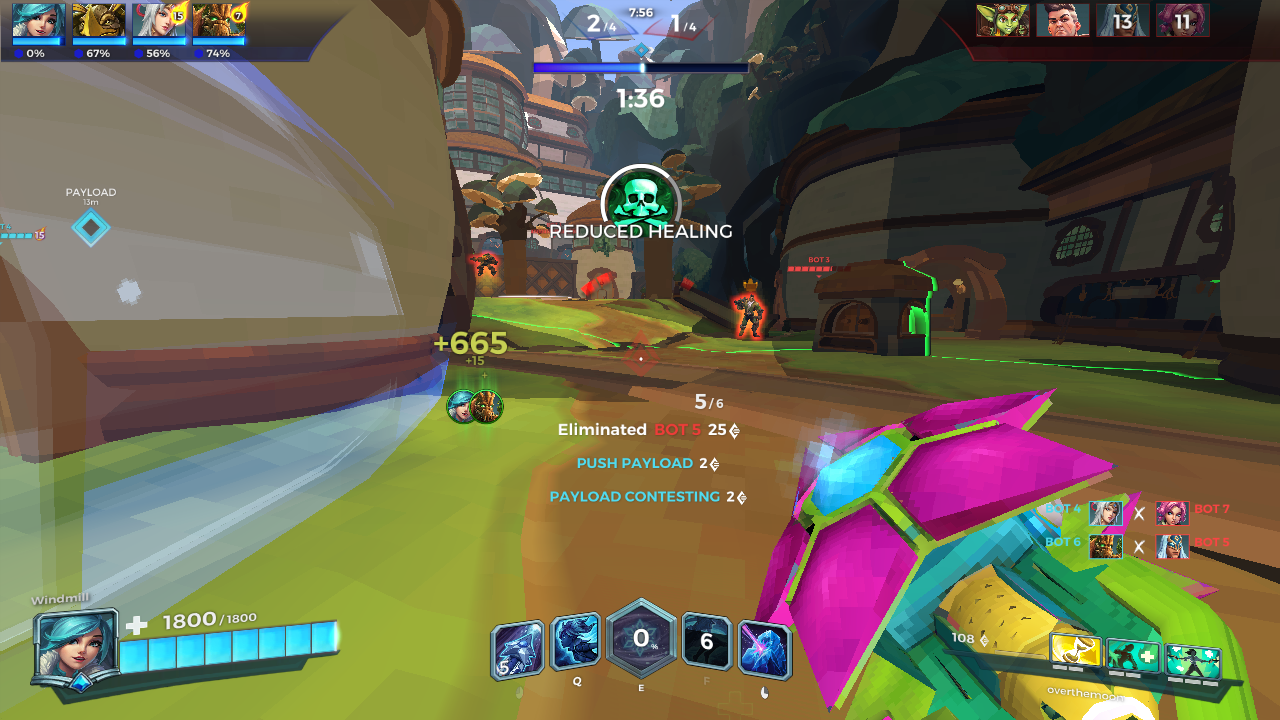model: (728, 289, 767, 344), (463, 247, 502, 281)
